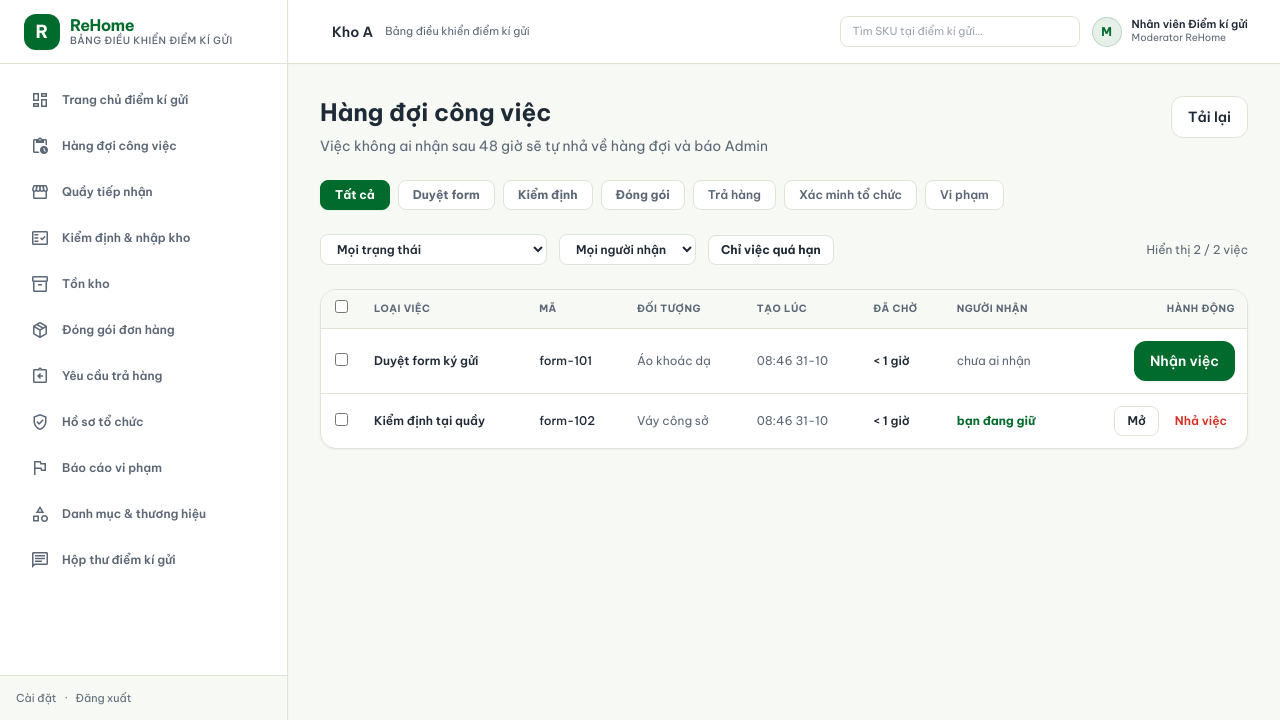
Scenario: ConsignmentQueuePage component behaviors › renders queue items with badges and claims a task successfully
The image size is (1280, 720).
Expected: the text "Áo khoác dạ" is shown, [625, 328, 745, 394]
Expected: the text "chưa ai nhận" is shown, [957, 353, 1031, 368]
Step 1. Click the button "Nhận việc" → click(1184, 361), box [1134, 341, 1235, 381]
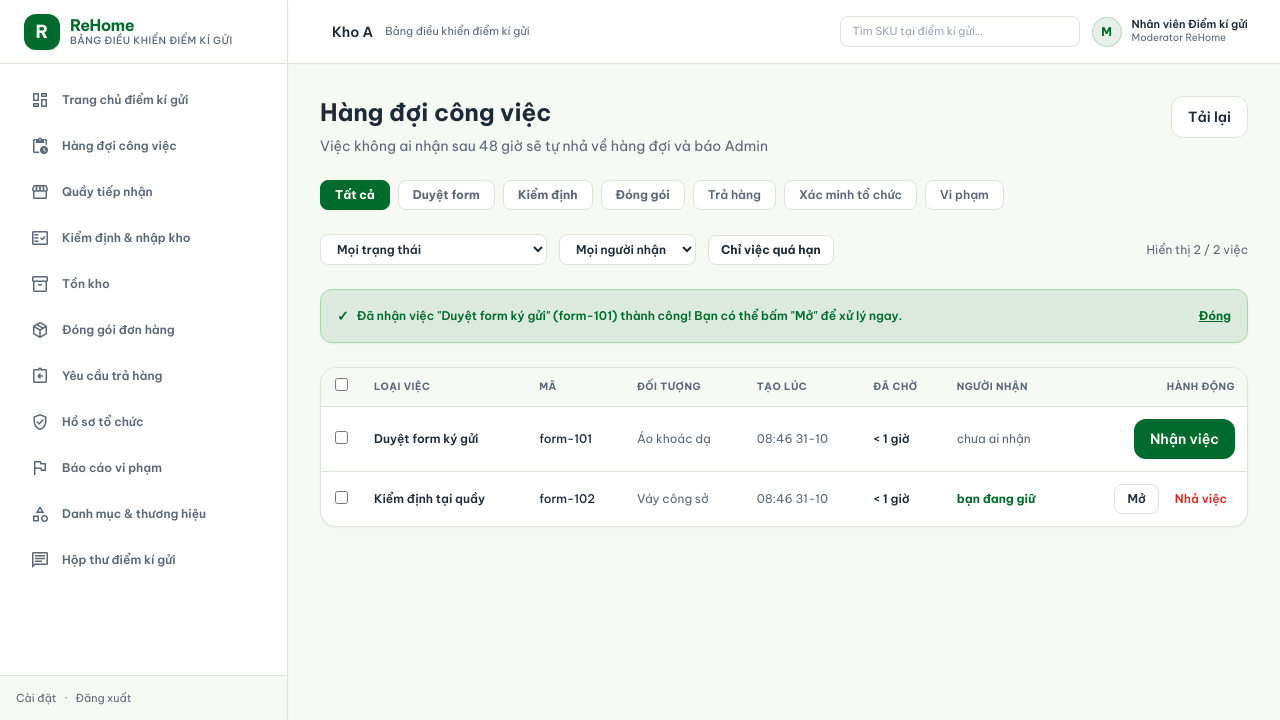
Now the text "Đã nhận việc" is shown, box [357, 308, 902, 323]
